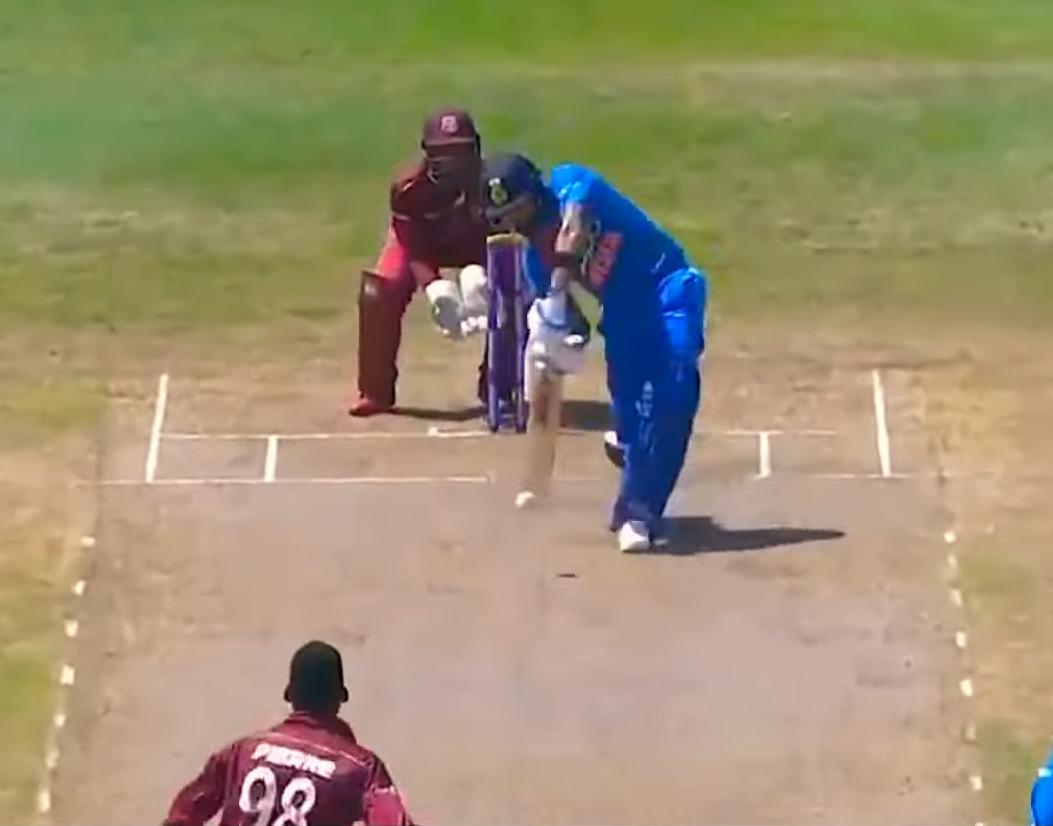Cricket-Ball: (509, 484, 542, 518)
